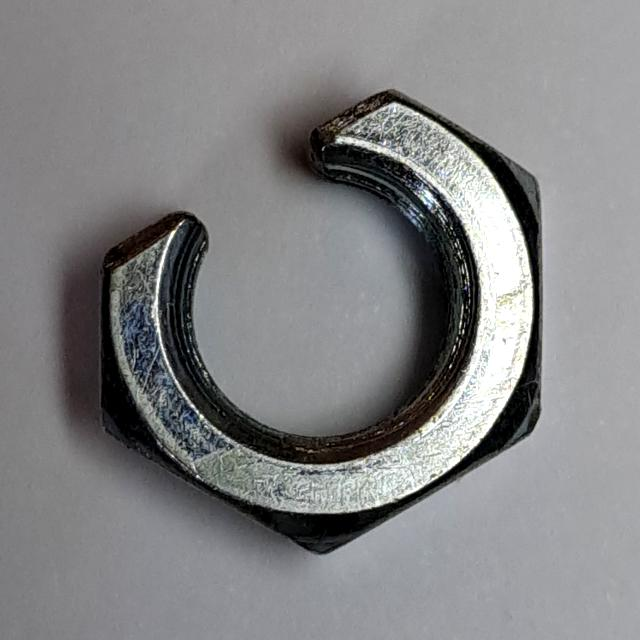Fracture: (88, 78, 560, 570)
